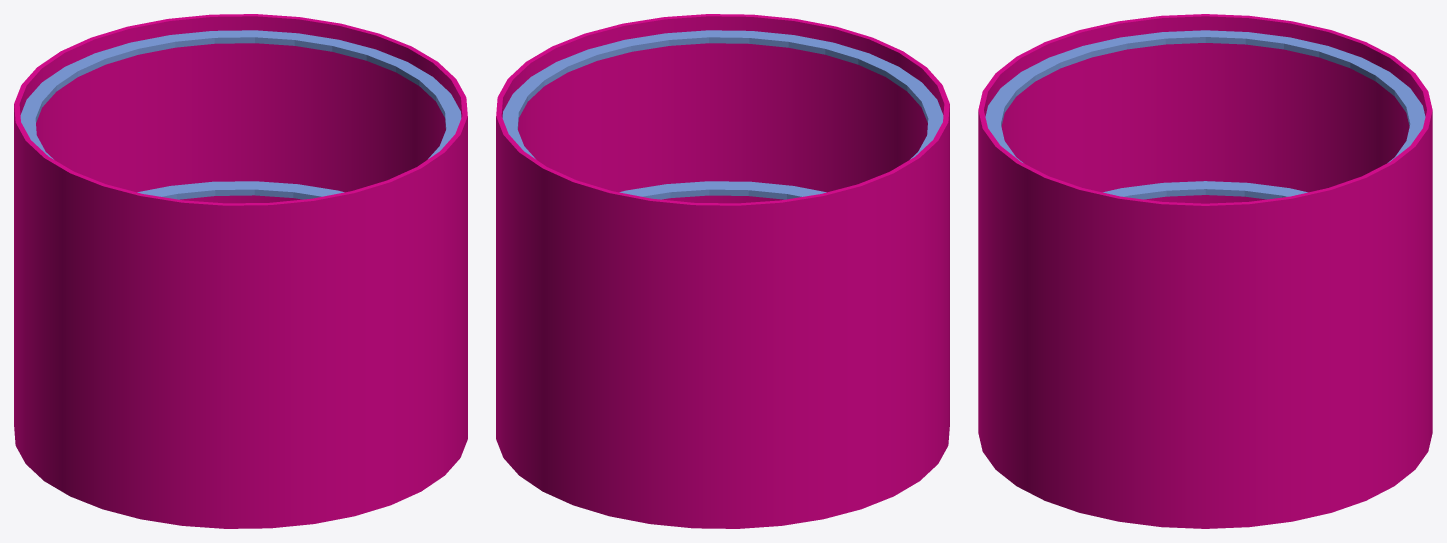
Rendered from ilkcircle.fbx.
3 renders of one model, left to right at view 1: azimuth 30°, elevation 25°; view 2: azimuth 150°, elevation 25°; view 3: azimuth 270°, elevation 25°, orthographic.
Parts seen in each view (by area): view 1: ilkcircle; view 2: ilkcircle; view 3: ilkcircle.
Boxes of the visible parts, x1,y1,x2,y2 form: ilkcircle: (14,14,467,528); ilkcircle: (496,14,949,528); ilkcircle: (978,14,1432,528).
Size of the model in its own units: 120 by 93.91 by 120.
